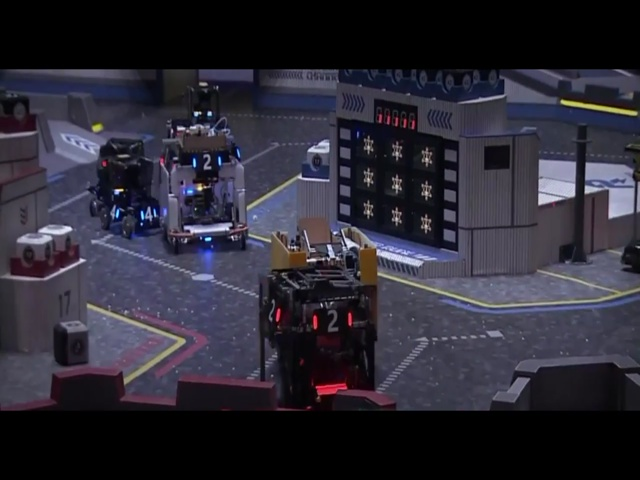bestBluePlate: (194, 149, 222, 177)
bestRedPlate: (312, 305, 348, 341)
bluePlate: (104, 205, 125, 226), (141, 204, 161, 224)
redPlate: (258, 295, 289, 326)
